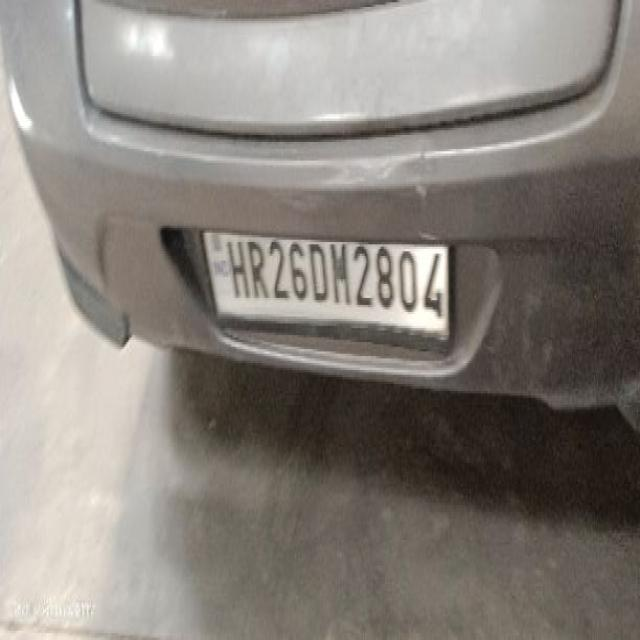license_plate: (198, 226, 452, 342)
